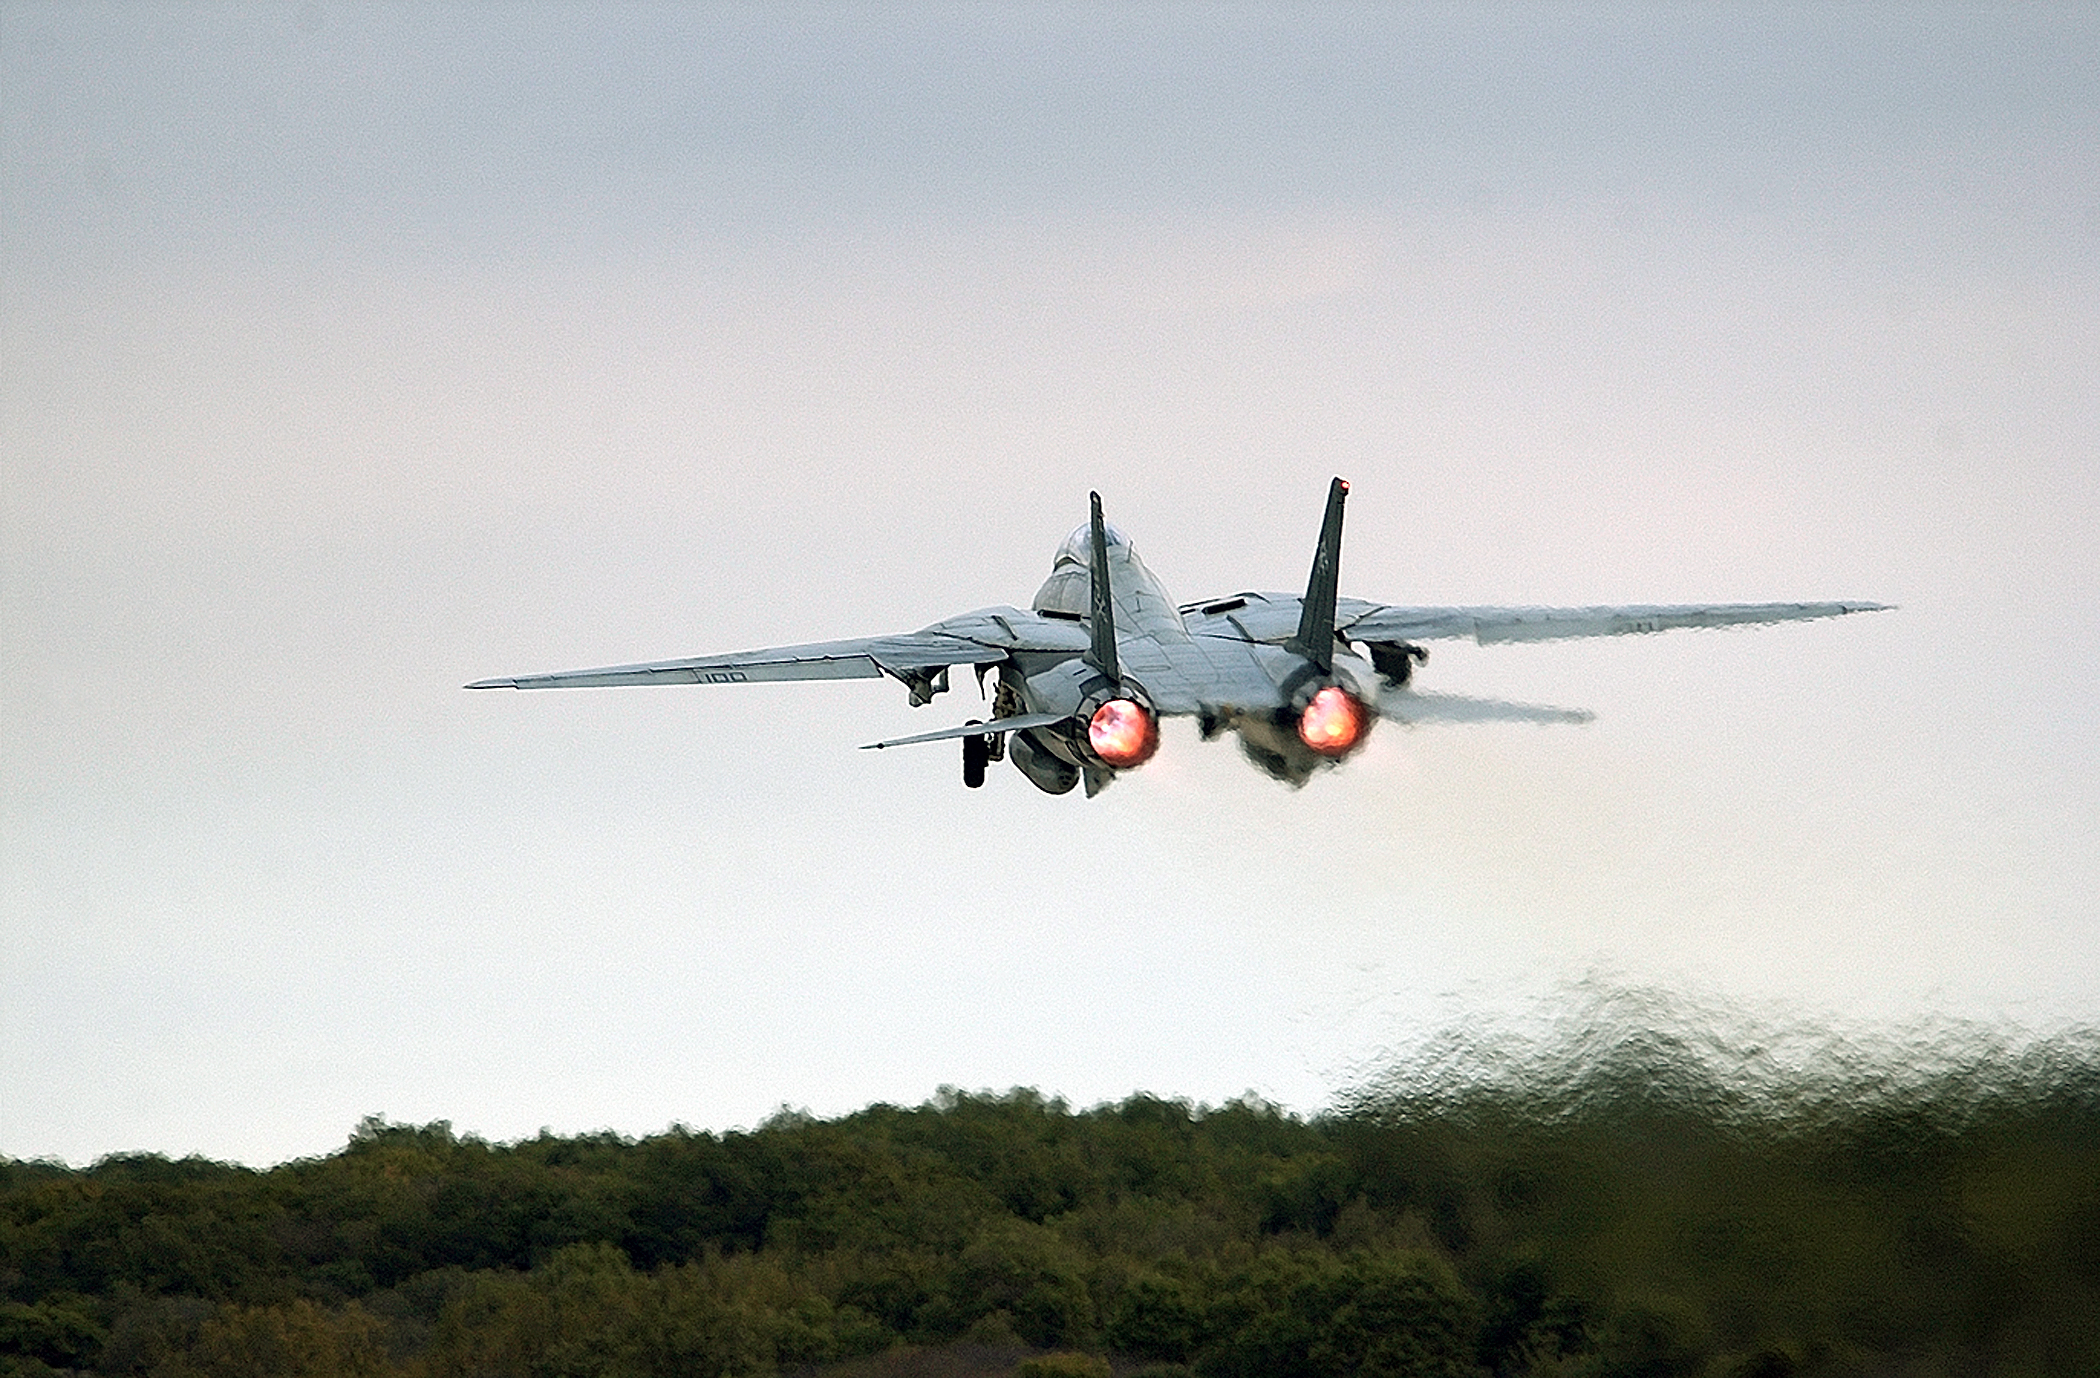F14: (460, 477, 1903, 801)
